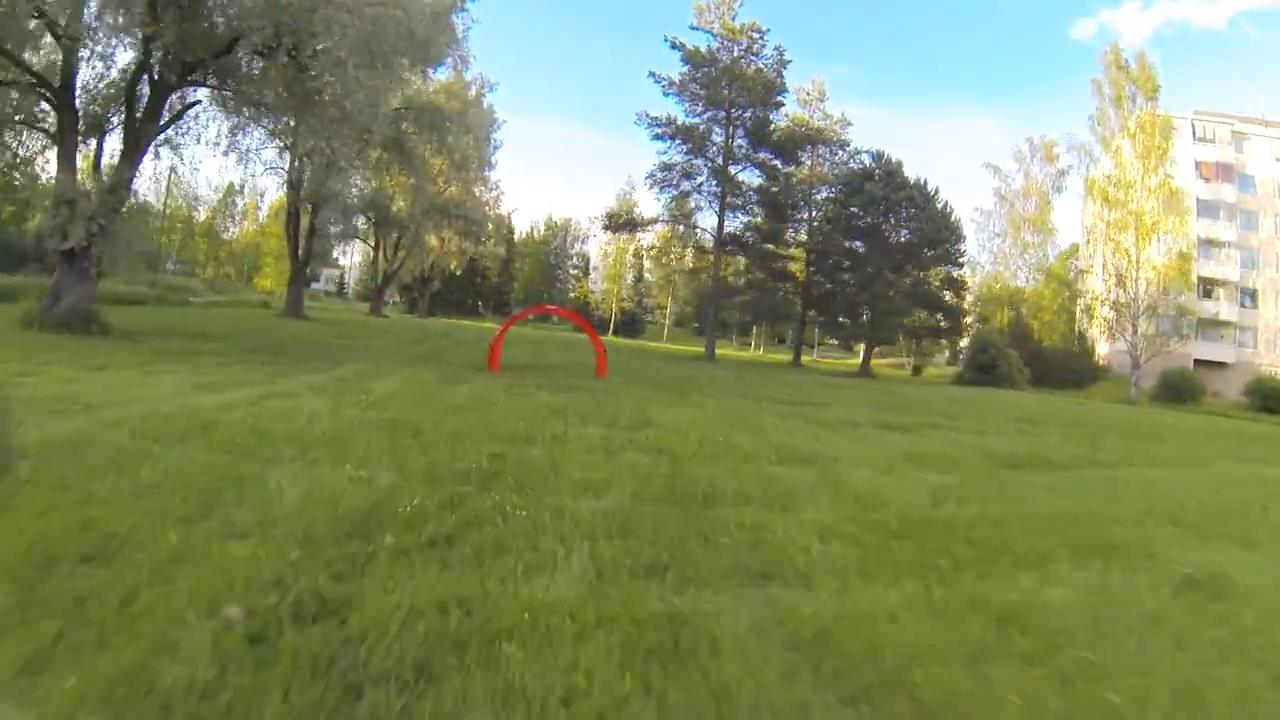gate: (484, 303, 607, 380)
